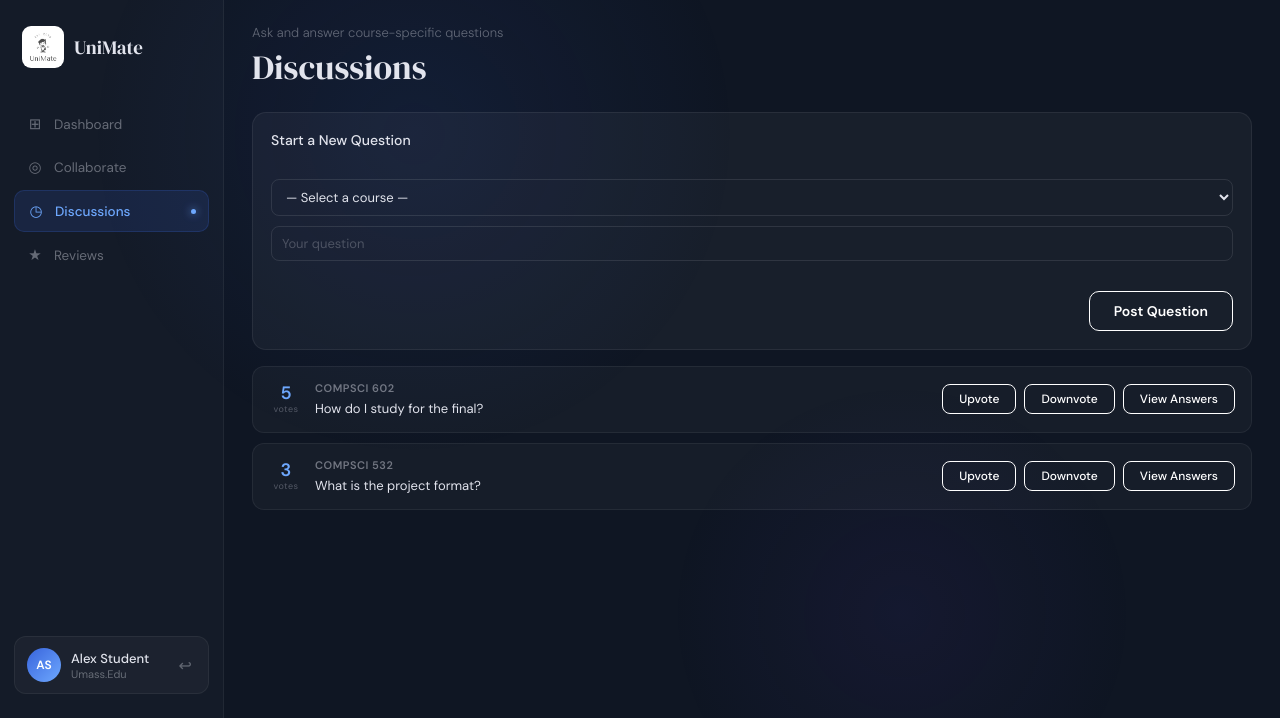
it: DiscussionsPage › answers › hides answers when Hide Answers clicked
This screenshot has width=1280, height=718.
Step 1. Click the button "View Answers" in the row of "How do I study for the final?" → x=1179, y=399, box [1123, 384, 1235, 414]
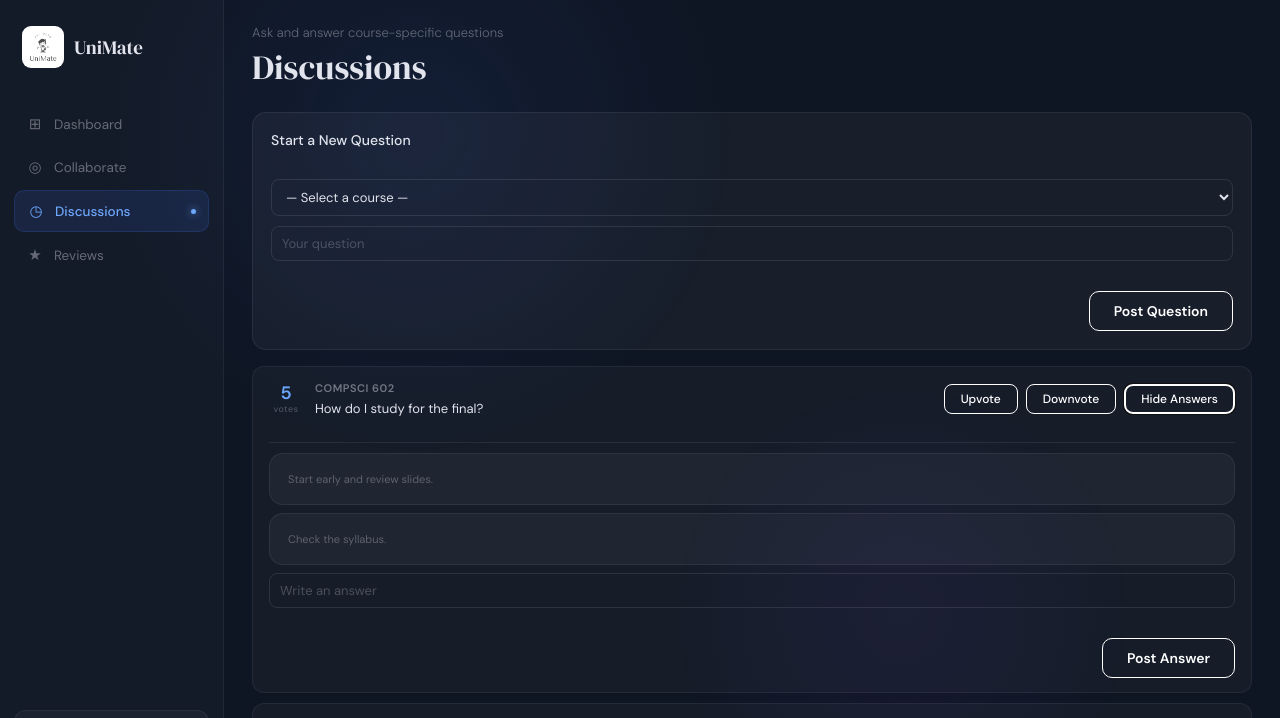
Check: the button "Hide Answers" is shown
Step 2. Click the button "Hide Answers" → x=1180, y=399, box [1124, 384, 1235, 414]
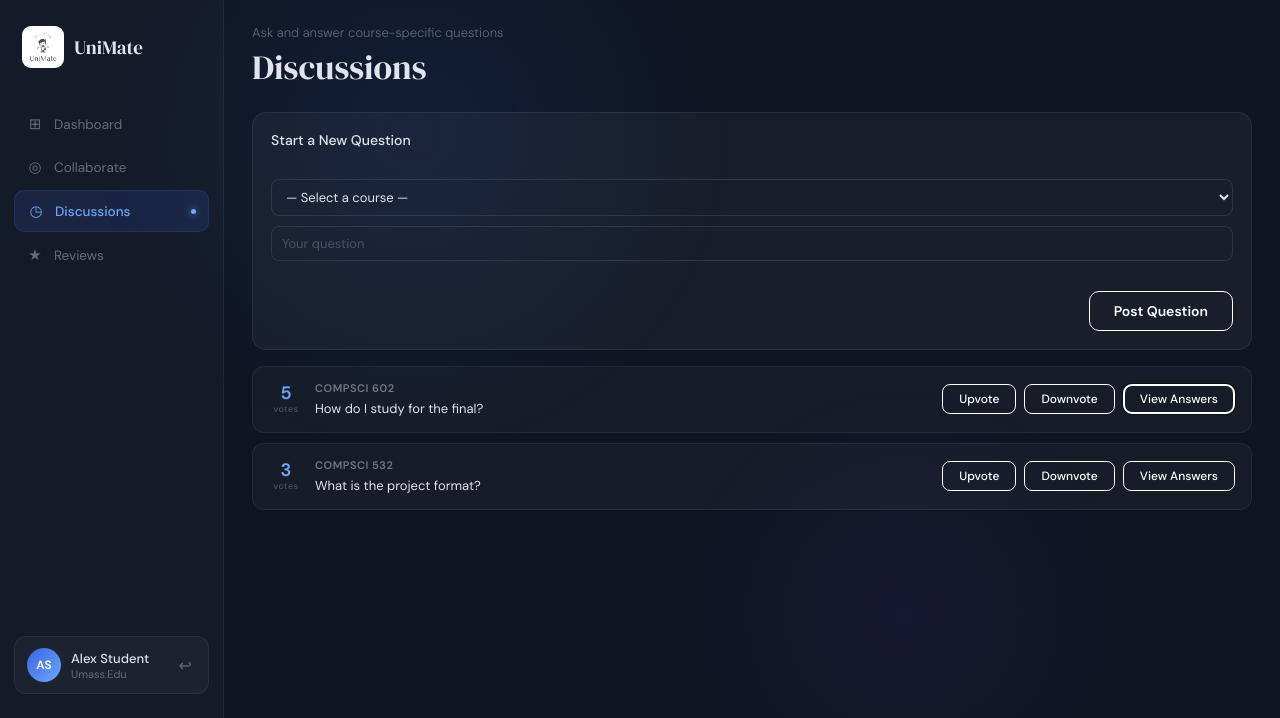
Check: the text "Start early and review slides." is gone
